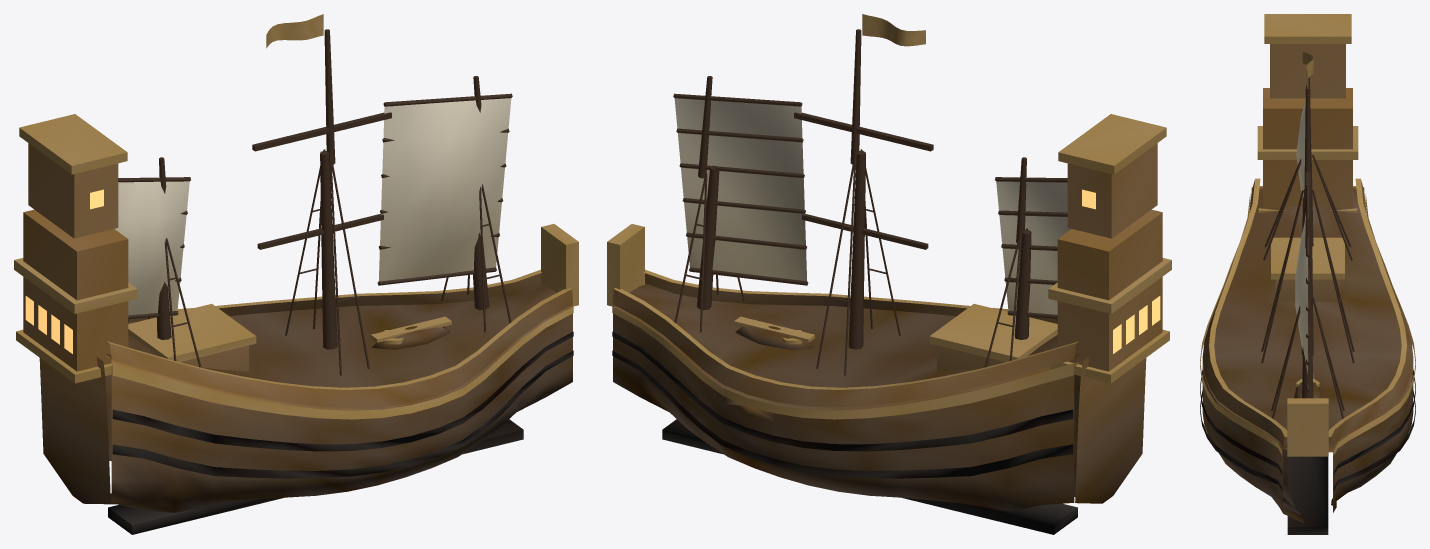
Rendered from garden-hero-junk.glb.
The picture shows the model from 3 angles, left to right: view 1: azimuth 30°, elevation 25°; view 2: azimuth 150°, elevation 25°; view 3: azimuth 270°, elevation 25°; orthographic projection. The views are drawn at different scales.
Visible parts, largest first — view 1: wood-hull, sail-hull, spar-hull, trim-hull, glow-hull; view 2: wood-hull, sail-hull, spar-hull, trim-hull, glow-hull; view 3: wood-hull, spar-hull, sail-hull, trim-hull.
Part boxes in pixels (x1,y1,x2,y2): wood-hull: [14, 14, 578, 534]; sail-hull: [115, 98, 511, 315]; spar-hull: [118, 29, 512, 375]; trim-hull: [112, 306, 573, 419]; glow-hull: [25, 189, 103, 353]; wood-hull: [607, 14, 1171, 534]; sail-hull: [674, 98, 1070, 314]; spar-hull: [673, 29, 1067, 375]; trim-hull: [612, 306, 1073, 419]; glow-hull: [1082, 189, 1160, 353]; wood-hull: [1200, 14, 1415, 534]; spar-hull: [1261, 77, 1354, 418]; sail-hull: [1295, 97, 1307, 374]; trim-hull: [1200, 194, 1415, 455].
Size of the model in its own units: 11.2 by 9.48 by 4.81.
